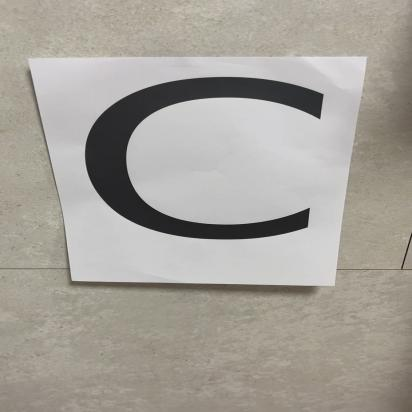seat: (30, 60, 347, 286)
